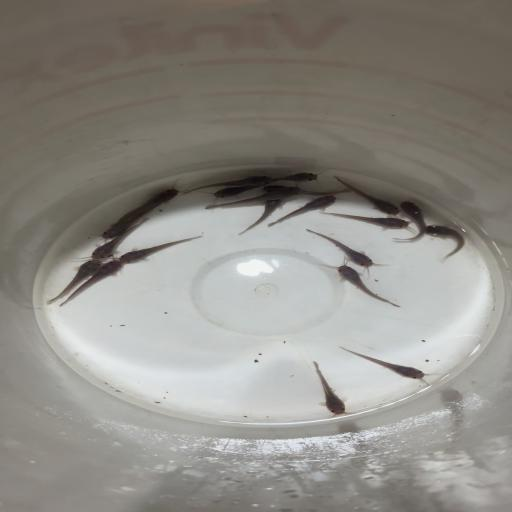lele: (335, 344, 435, 388), (303, 227, 384, 270), (329, 261, 402, 308), (60, 258, 124, 310), (332, 176, 407, 216), (120, 234, 204, 269), (306, 357, 354, 418), (45, 257, 100, 307), (92, 216, 150, 262), (262, 196, 336, 231), (314, 206, 413, 231), (207, 187, 302, 213), (231, 199, 283, 238), (120, 186, 182, 218), (179, 174, 270, 195), (423, 222, 468, 264), (92, 210, 153, 240), (392, 197, 428, 244), (266, 184, 351, 198), (196, 185, 253, 204), (270, 169, 328, 187)
